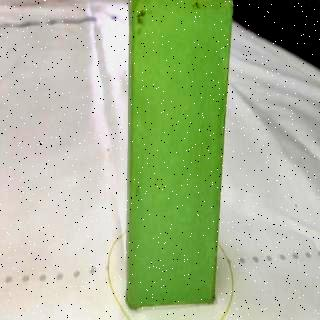greenbox: (128, 0, 235, 309)
